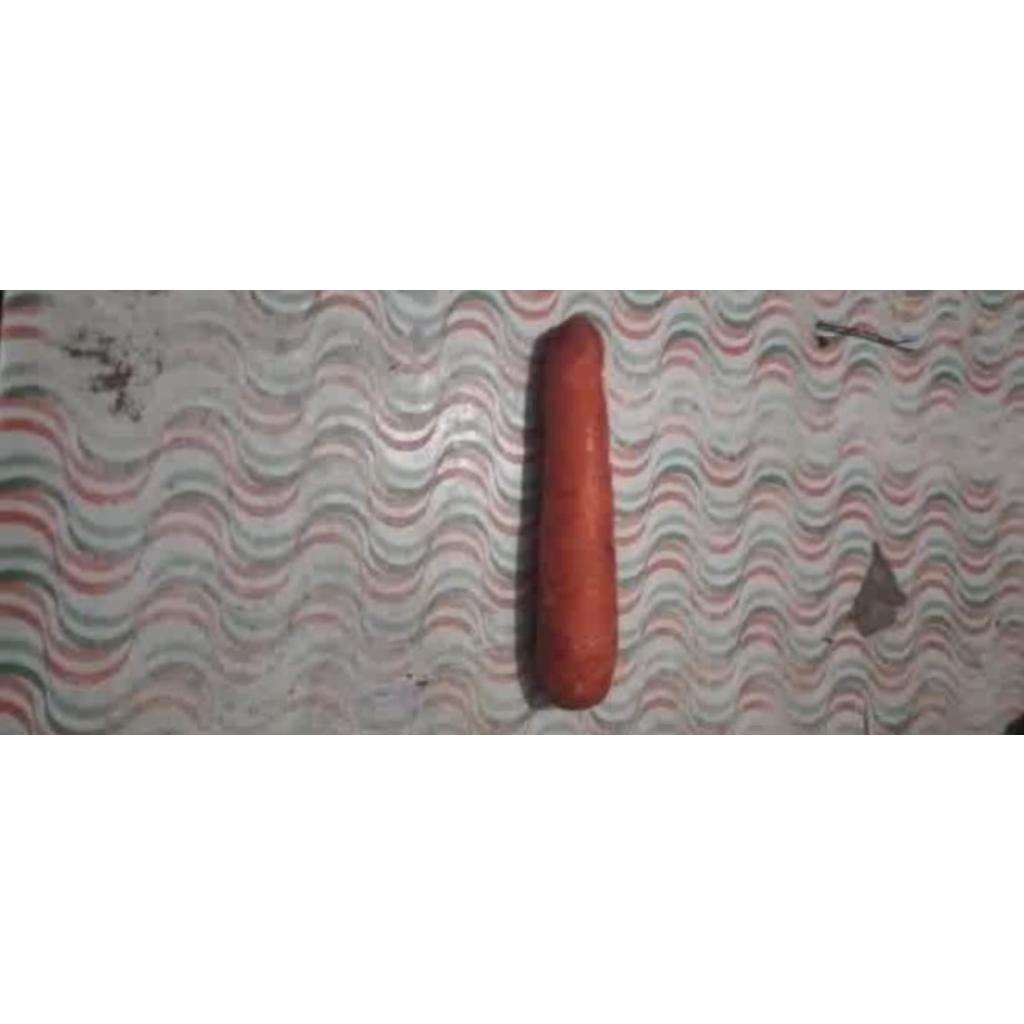carrot: (536, 317, 616, 707)
